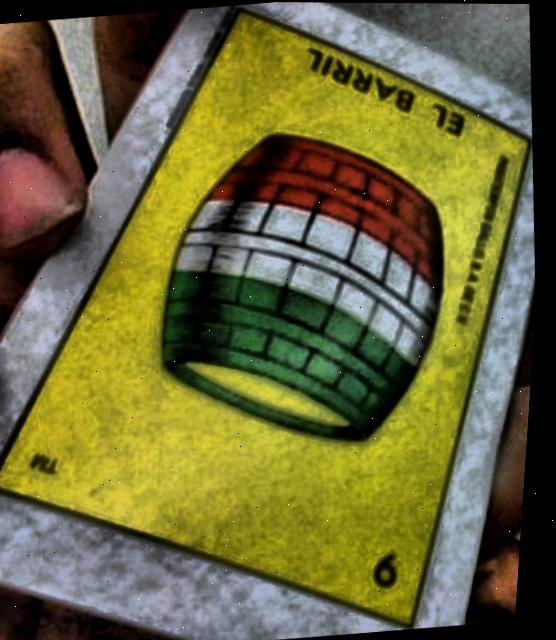El Barril: (1, 9, 533, 620)
